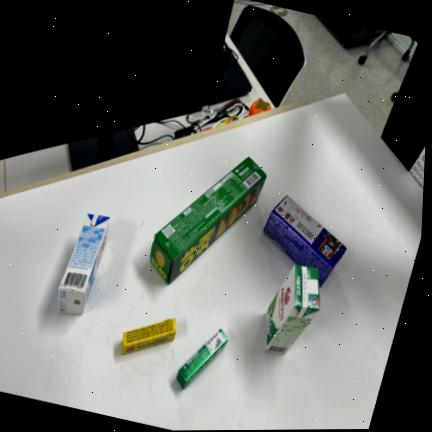cracker_ace: (264, 195, 346, 285)
cracker_vege: (151, 158, 266, 283)
gum_green: (177, 329, 228, 389)
gum_yellow: (122, 318, 176, 354)
milk_blue: (57, 214, 109, 314)
milk_green: (264, 265, 320, 354)
